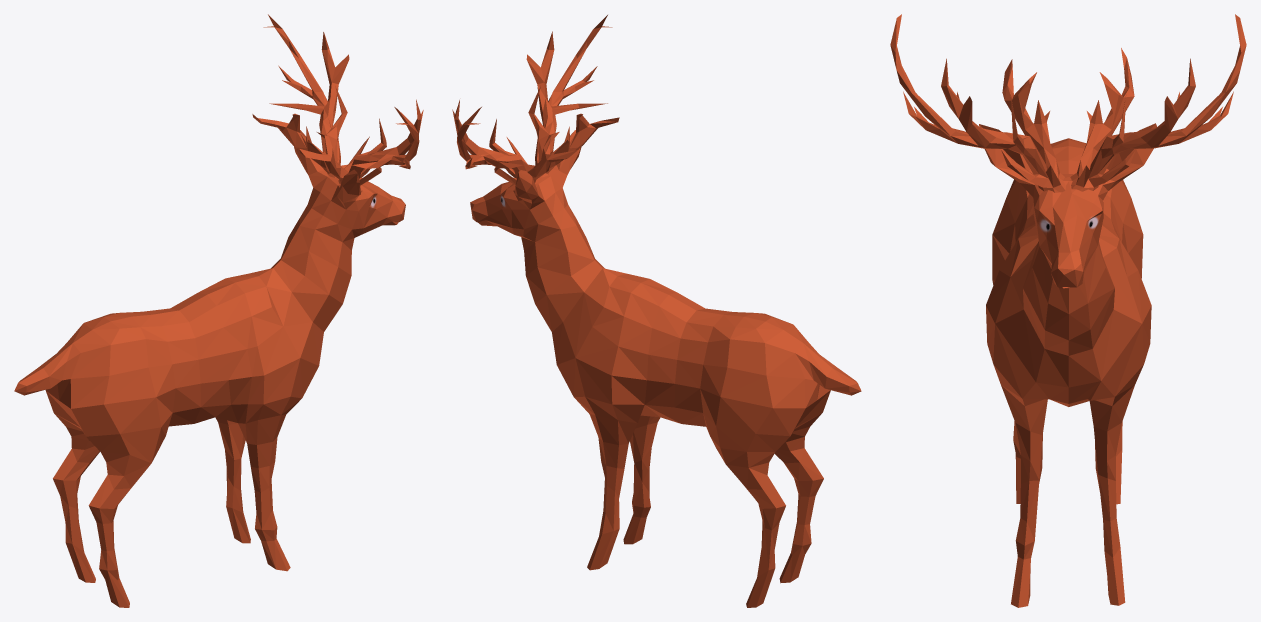
The model's file is deer2.obj.
3 renders of one model, left to right at view 1: azimuth 30°, elevation 25°; view 2: azimuth 150°, elevation 25°; view 3: azimuth 270°, elevation 25°, orthographic. The views are drawn at different scales.
Visible parts, largest first — view 1: deer; view 2: deer; view 3: deer.
Part boxes in pixels (x1=…): deer: x1=14, y1=14, x2=423, y2=607; deer: x1=452, y1=15, x2=861, y2=607; deer: x1=890, y1=14, x2=1246, y2=607.
Bounding box in the file's own units: 10.76 × 12.66 × 6.46.
1 material, 1 textured.
